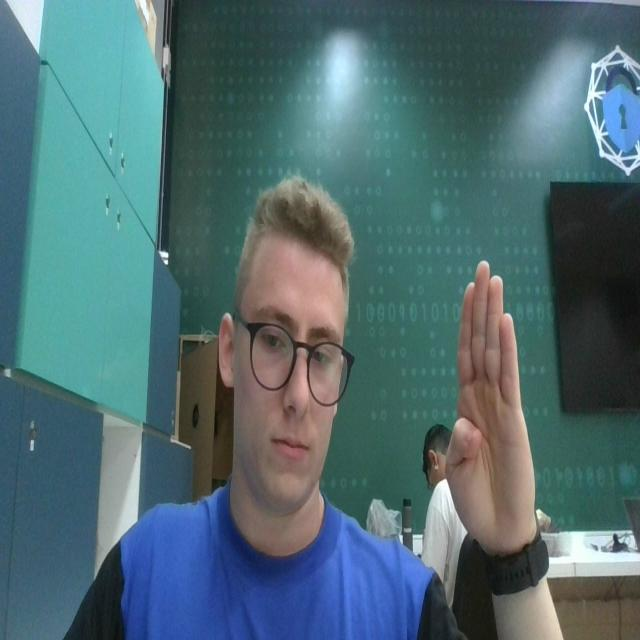B: (443, 254, 540, 544)
